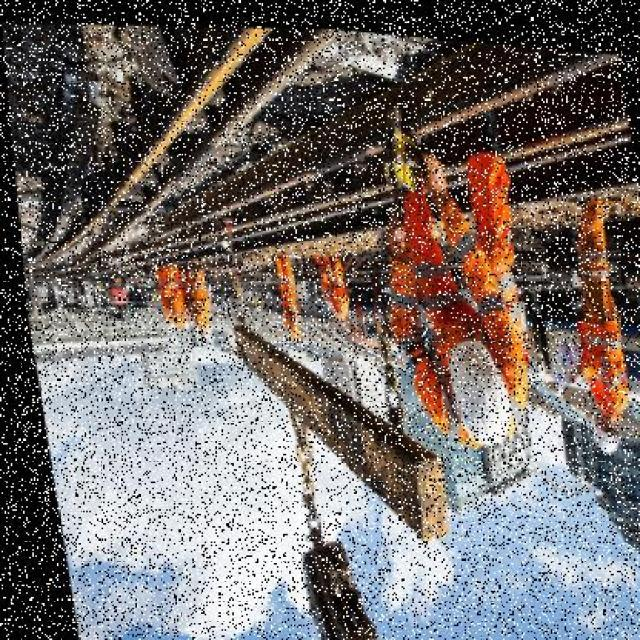helmet: (433, 325, 510, 442), (581, 403, 619, 455), (286, 328, 301, 348)
vest: (570, 314, 628, 400), (274, 295, 296, 329), (325, 282, 344, 314)
